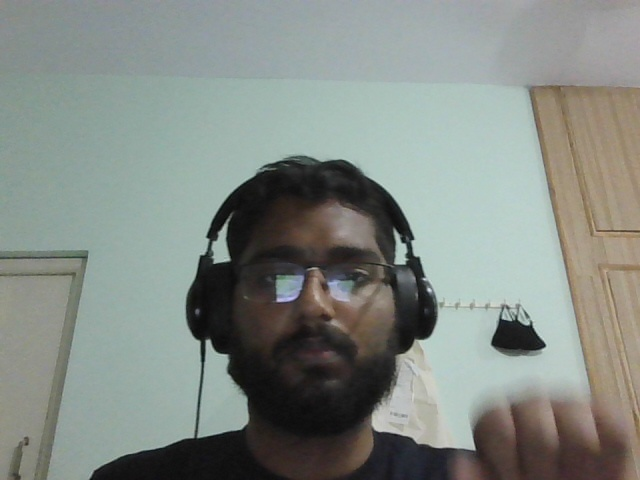Yes: (426, 385, 640, 480)
